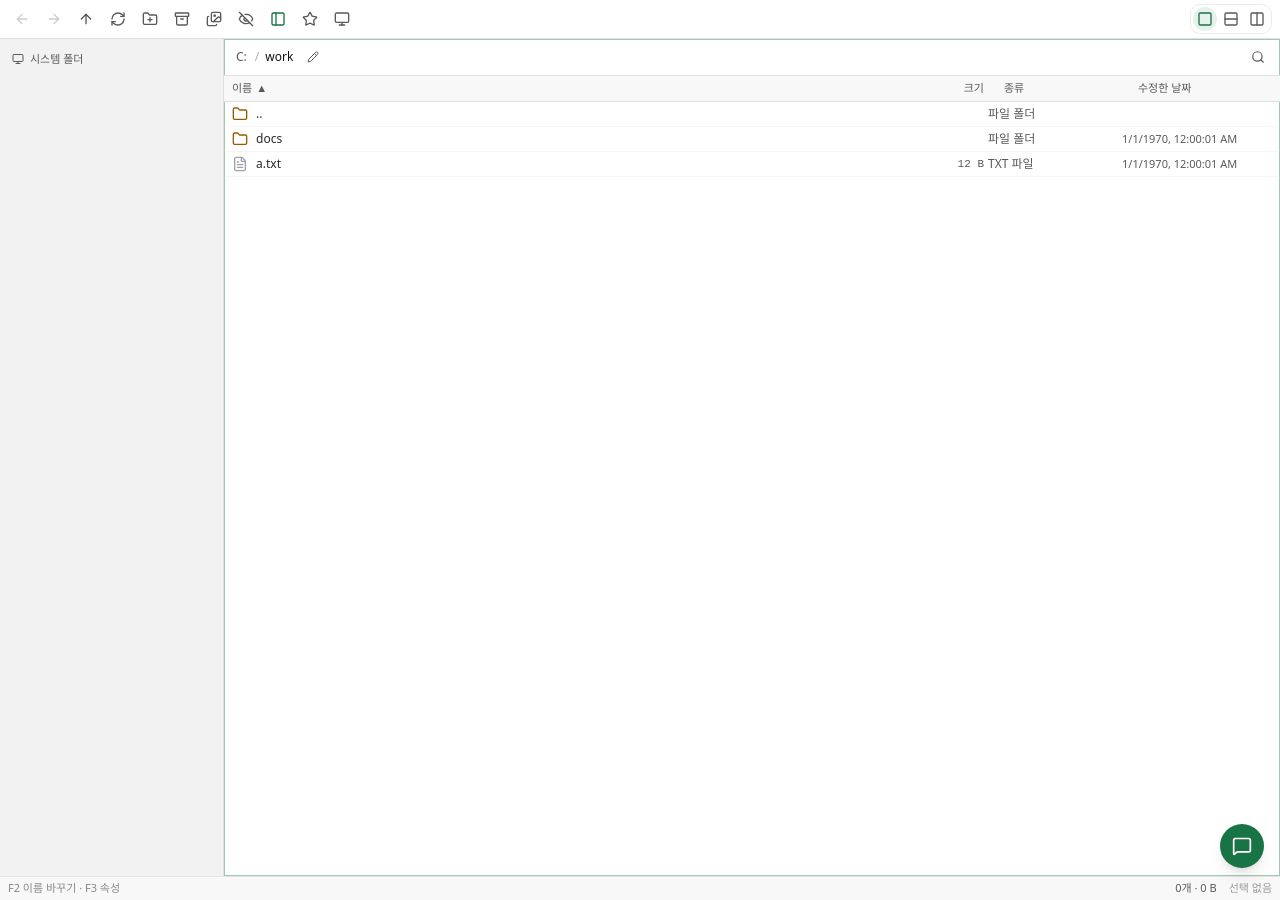
Test case: FileExplorerTab › opens properties with F3 and shows idle hints in the status bar
This screenshot has width=1280, height=900.
Click the text "a.txt" at (268, 164), box 256,156 -> 281,172
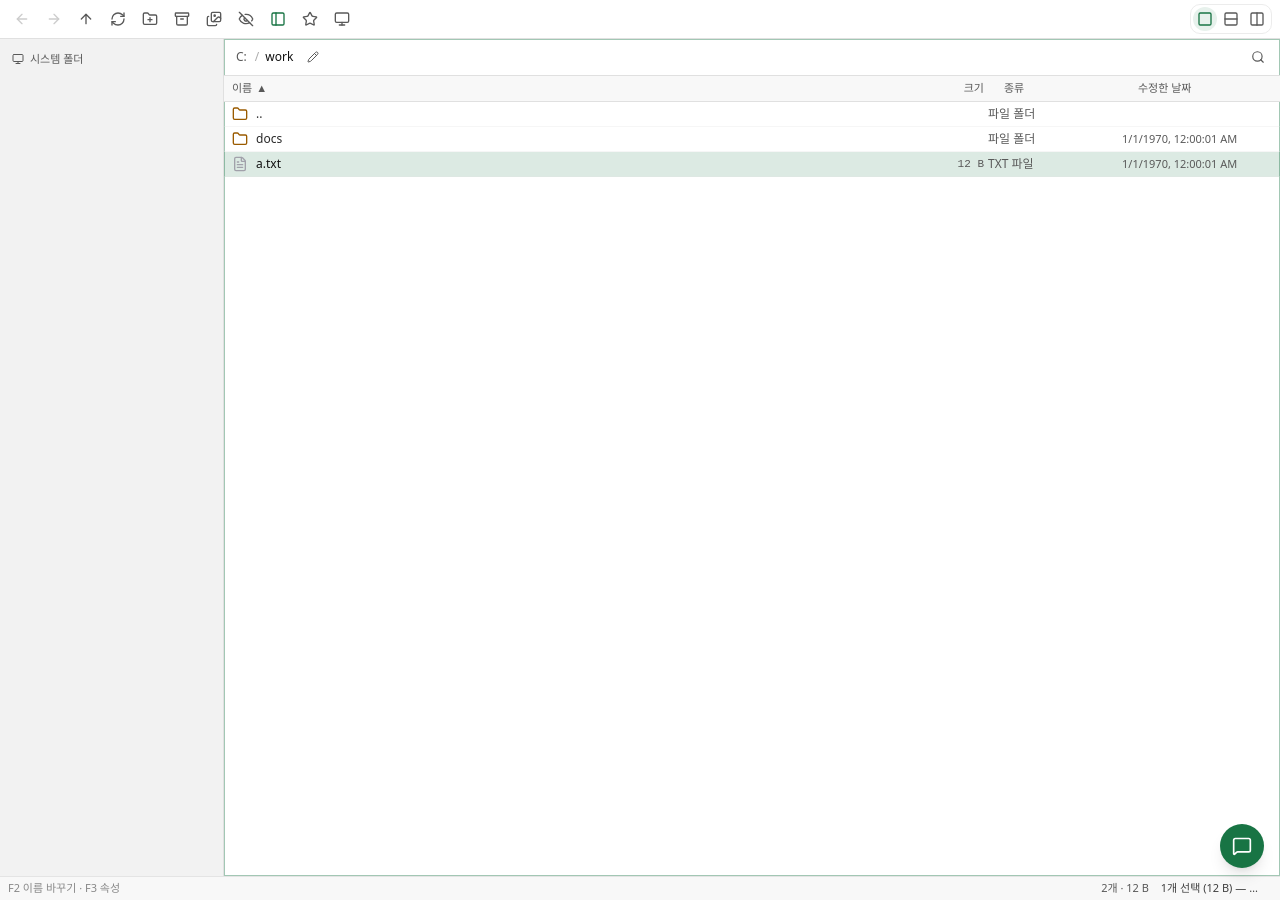
Expected: the element named "explorer-status" shows "F2", 8,880 -> 120,895
Press F3
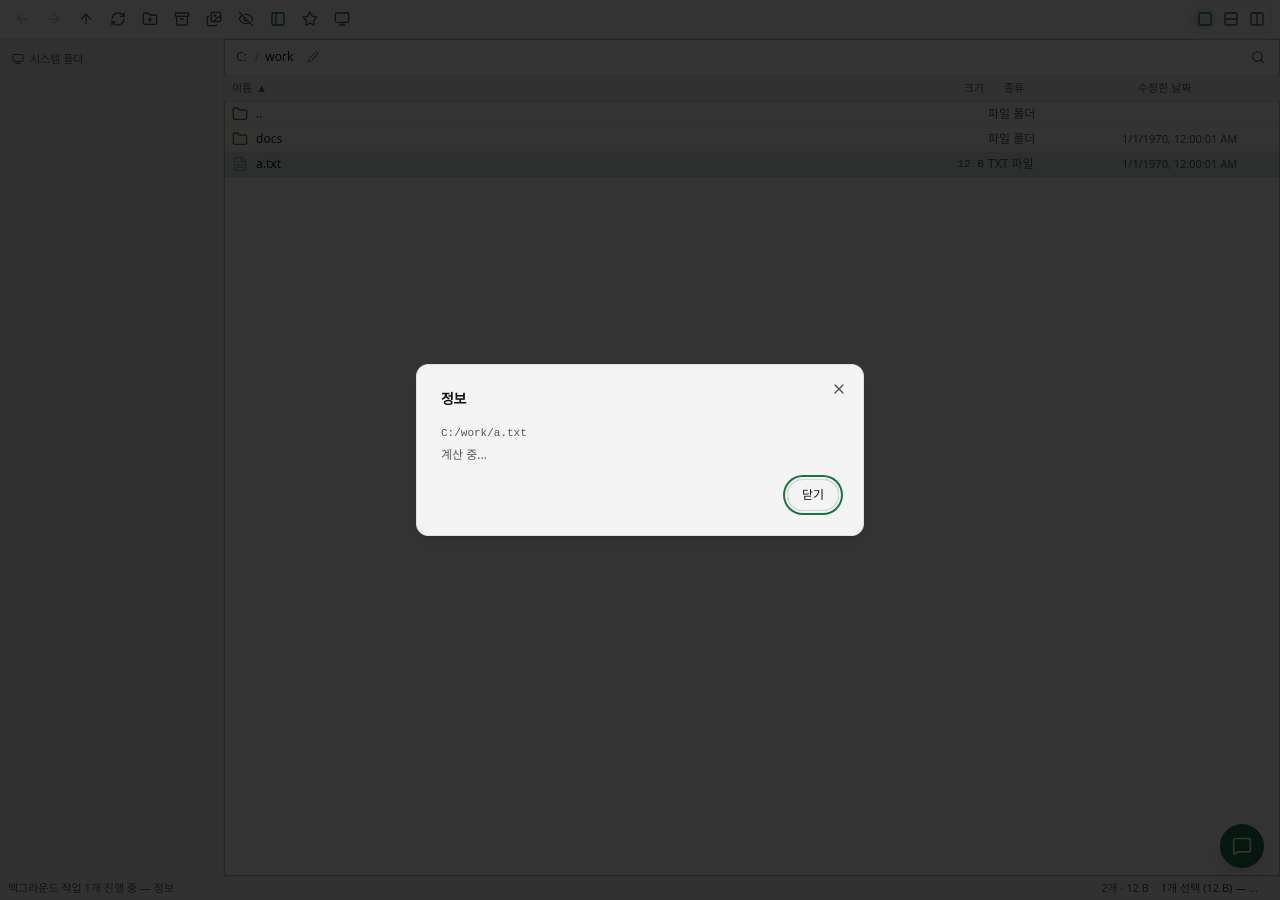
Result: the heading "정보" is shown at 441,389 -> 466,408
